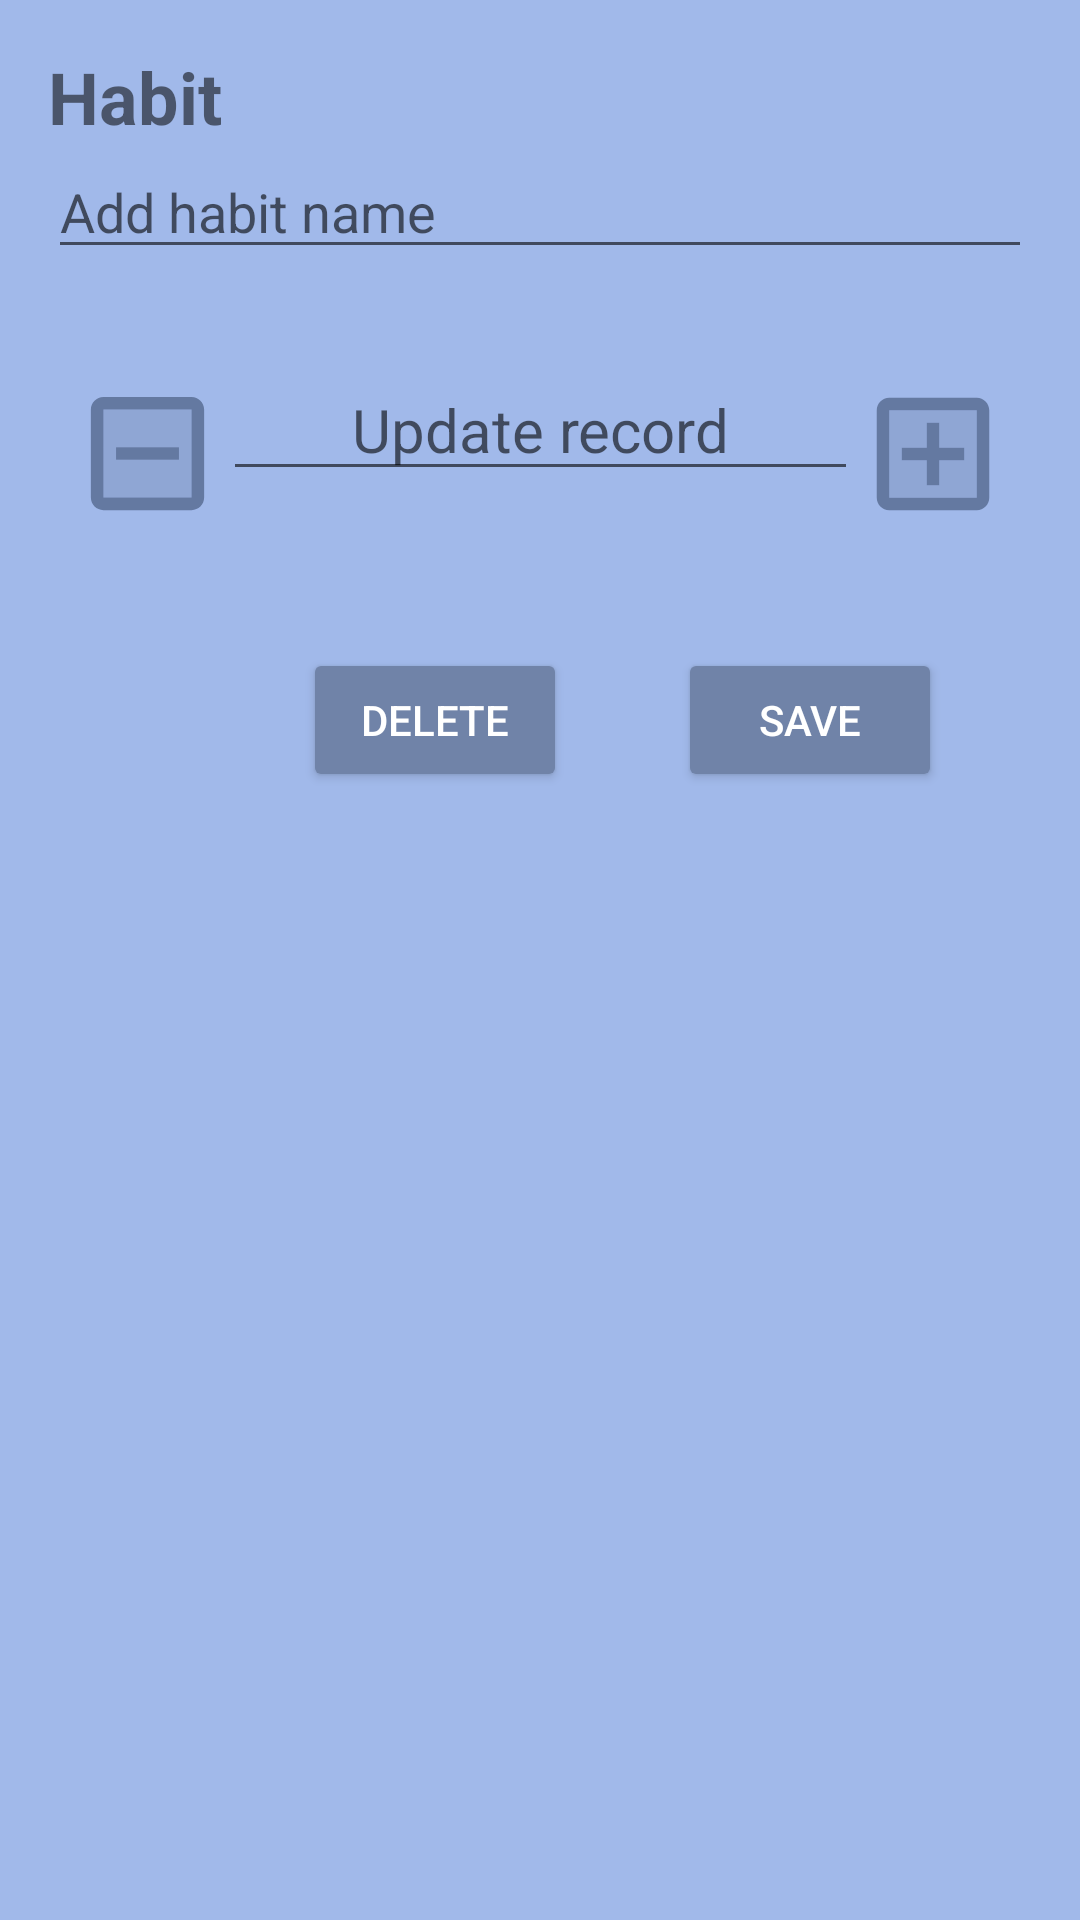

Named icons in this screenshot (1080 x 1920) and their bounding boxes, (x1, y1, x2, y2):
subtract: (90, 397, 205, 511)
